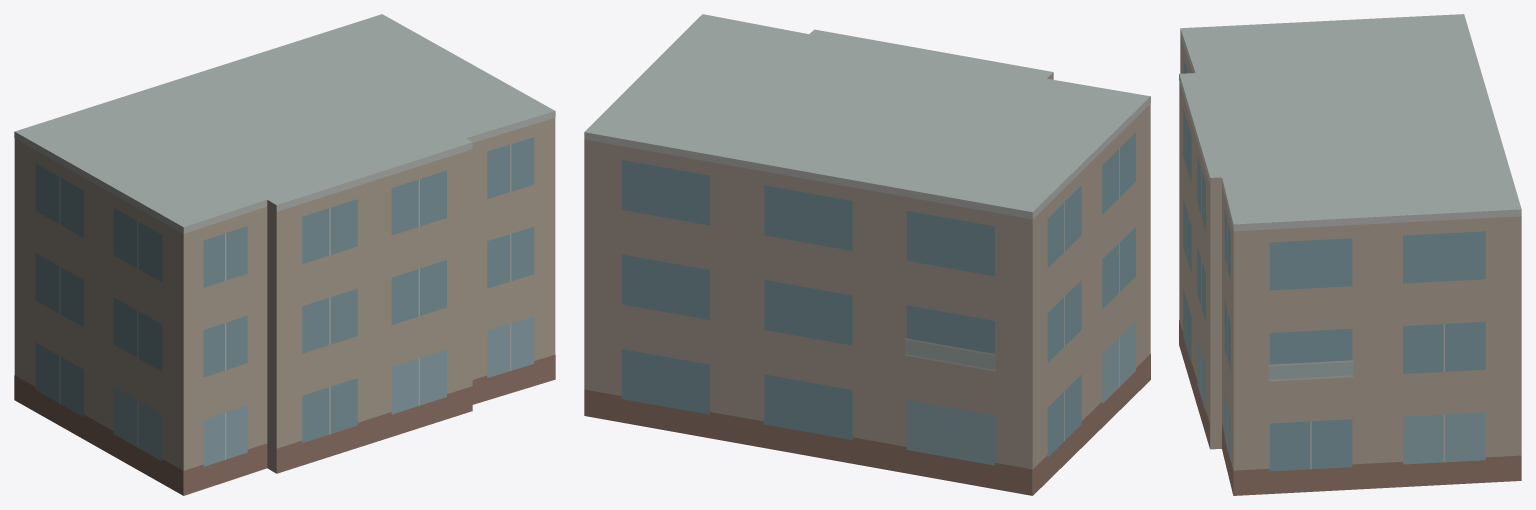
Rendered from survey-upis-33019305.glb.
3 views of the same model, side by side, from view 1: azimuth 30°, elevation 25°; view 2: azimuth 150°, elevation 25°; view 3: azimuth 270°, elevation 25° (orthographic). The views are drawn at different scales.
Parts seen in each view (by area): view 1: survey-upis-33019305.tmp; view 2: survey-upis-33019305.tmp; view 3: survey-upis-33019305.tmp.
Part boxes in pixels (x1=…): survey-upis-33019305.tmp: x1=14, y1=14, x2=555, y2=495; survey-upis-33019305.tmp: x1=584, y1=14, x2=1150, y2=495; survey-upis-33019305.tmp: x1=1179, y1=14, x2=1521, y2=495.
Size of the model in its own units: 15.99 by 9.61 by 11.
